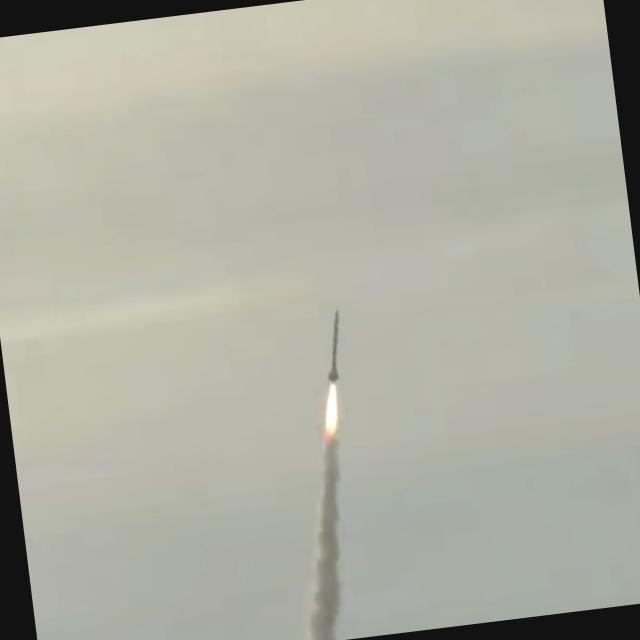smoke_trail_with_rocket: (307, 309, 345, 640)
